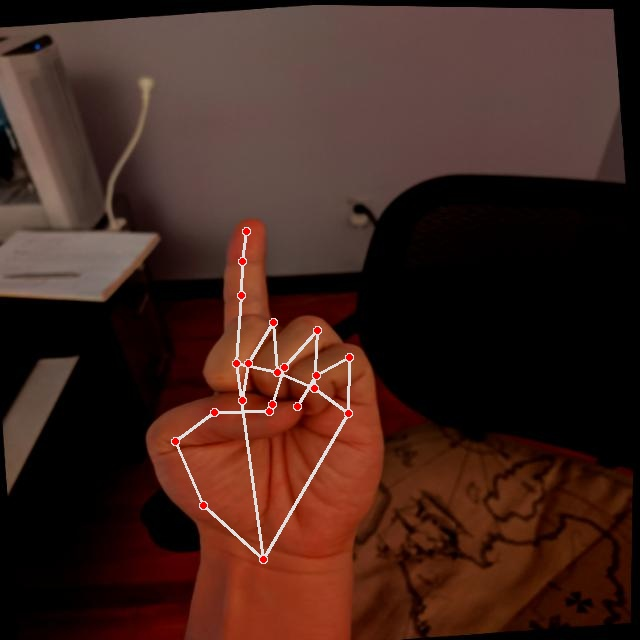D: (118, 198, 410, 583)
